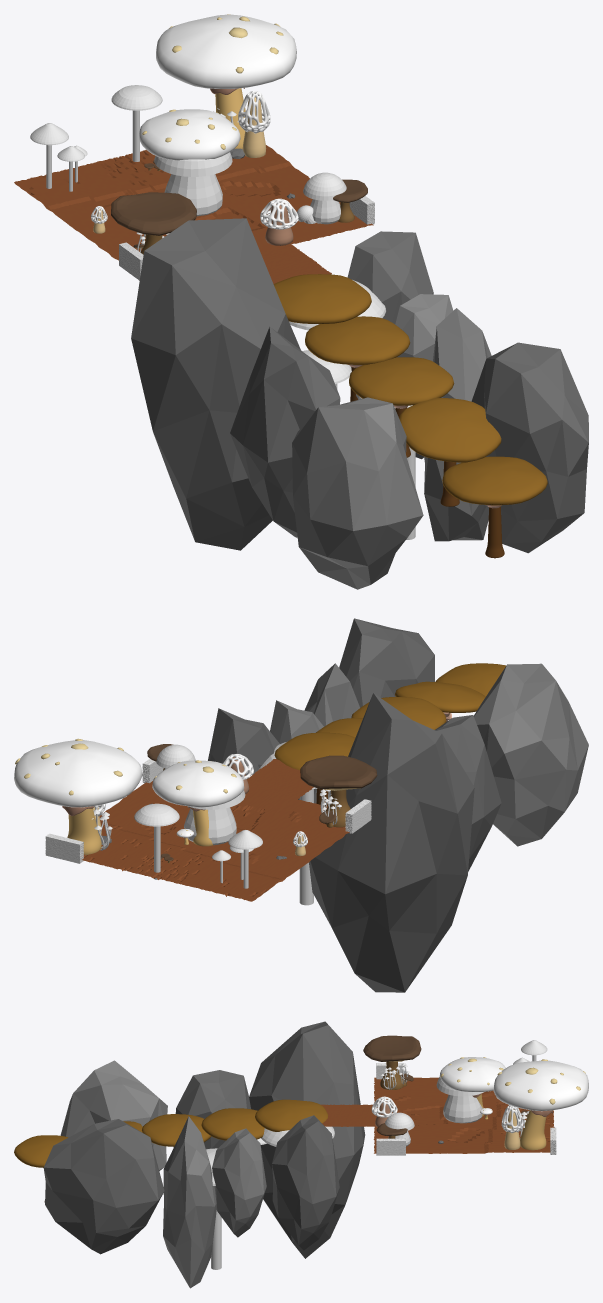
Rendered from Claro_de_Setas.glb.
3 views of the same model, one above another, from view 1: azimuth 30°, elevation 25°; view 2: azimuth 150°, elevation 25°; view 3: azimuth 270°, elevation 25° (orthographic). The views are drawn at different scales.
Visible parts, largest first — view 1: Icosphere.003, Icosphere.006, Icosphere.005, Base escenario, Icosphere.002, Sphere.002, Icosphere.004, parte arriba.003, Icosphere, Sphere.014, parte arriba.004, parte arriba.001 (+12 smaller); view 2: Icosphere.003, Base escenario, Icosphere.006, Sphere.002, Icosphere.005, Sphere.014, Icosphere.002, Cube, Icosphere, Icosphere.004, parte arriba, parte arriba.003 (+12 smaller); view 3: Icosphere.005, Icosphere.003, Base escenario, Icosphere, Icosphere.004, Sphere.002, Icosphere.006, Icosphere.001, Icosphere.002, Sphere.014, Cube, parte arriba (+9 smaller).
Boxes of the visible parts, x1,y1,x2,y2 form: Icosphere.003: (131,218,300,550); Icosphere.006: (292,397,423,589); Icosphere.005: (471,342,588,553); Base escenario: (14,145,373,283); Icosphere.002: (230,326,340,537); Sphere.002: (156,14,296,148); Icosphere.004: (424,308,491,541); parte arriba.003: (399,398,501,462); Icosphere: (347,231,433,367); Sphere.014: (139,109,240,160); parte arriba.004: (442,456,547,505); parte arriba.001: (305,316,410,364); Icosphere.003: (309,693,474,992); Base escenario: (82,759,349,901); Icosphere.006: (473,663,588,846); Sphere.002: (14,738,142,855); Icosphere.005: (339,618,434,707); Sphere.014: (152,760,244,846); Icosphere.002: (435,715,501,871); Cube: (300,755,377,827); Icosphere: (208,708,279,775); Icosphere.004: (304,663,359,726); parte arriba: (274,732,355,770); parte arriba.003: (395,681,485,712); Icosphere.005: (43,1119,164,1254); Icosphere.003: (249,1021,365,1258); Base escenario: (321,1077,554,1153); Icosphere: (272,1115,339,1250); Icosphere.004: (163,1116,216,1288); Sphere.002: (493,1059,588,1150); Icosphere.006: (60,1060,167,1170); Icosphere.001: (212,1128,266,1237); Icosphere.002: (173,1070,250,1149); Sphere.014: (439,1057,505,1116); Cube: (363,1035,421,1089); parte arriba: (255,1099,328,1131).
Bounding box in the file's own units: 85.16 × 90.12 × 192.
